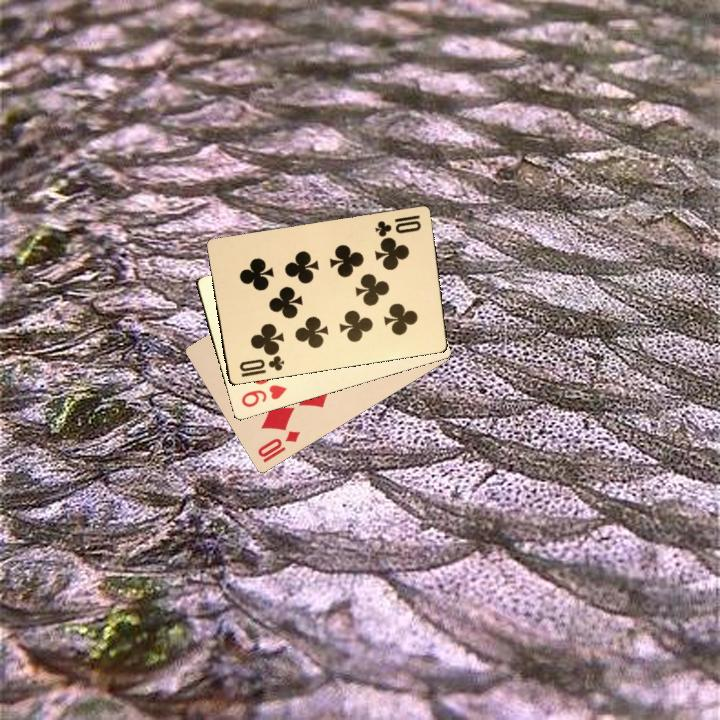10c: (371, 210, 424, 241), (235, 352, 287, 379)
10d: (254, 427, 303, 465)
9h: (237, 381, 289, 410)
